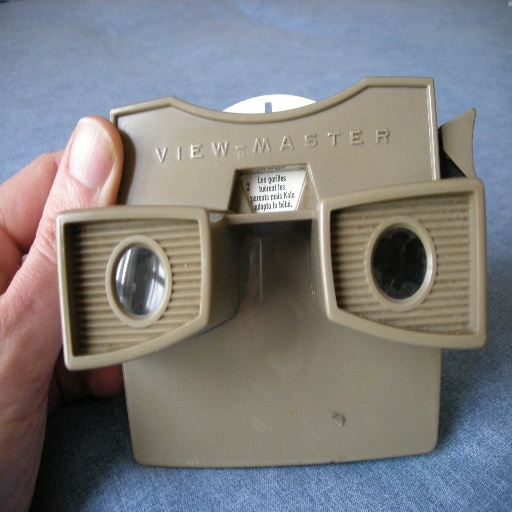hand: (0, 110, 121, 511)
